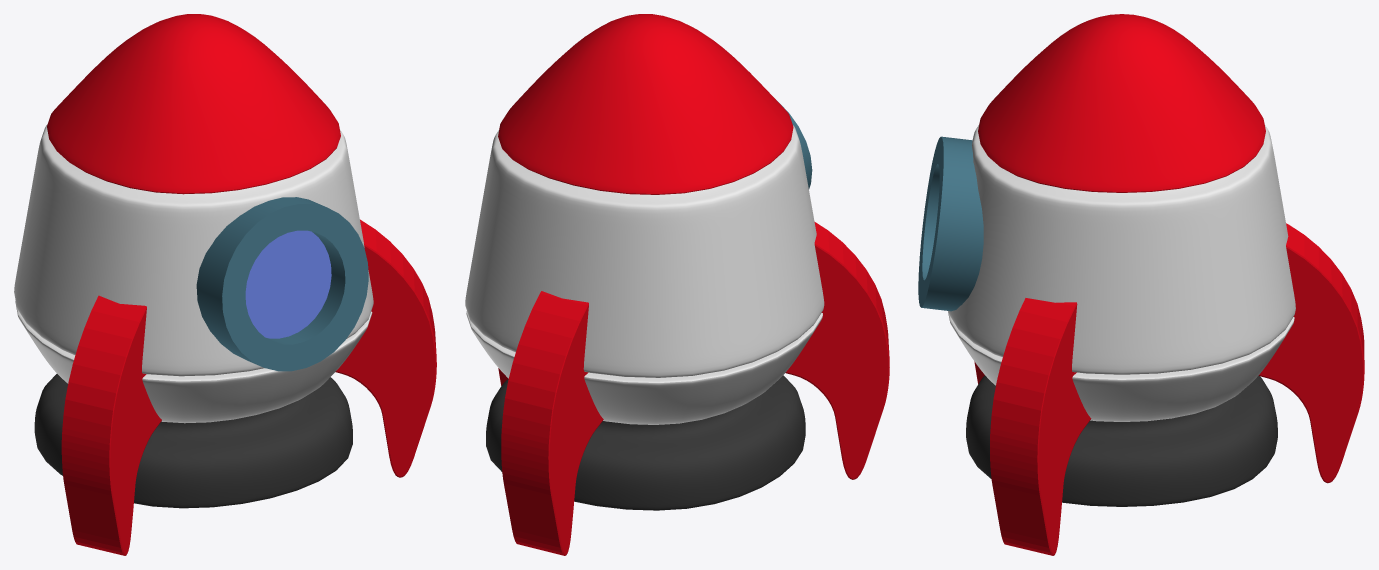
File: Rocket (wip).glb
The picture shows the model from 3 angles, left to right: view 1: azimuth 30°, elevation 25°; view 2: azimuth 150°, elevation 25°; view 3: azimuth 270°, elevation 25°; orthographic projection.
Parts seen in each view (by area): view 1: Cube, Cylinder, Cube.004, Cube.001; view 2: Cube, Cube.003, Cube.004; view 3: Cube, Cube.001, Cube.003, Cylinder.
Part boxes in pixels (box(x1,y1,x2,y2)): Cube: box(14, 14, 373, 508); Cylinder: box(196, 197, 368, 371); Cube.004: box(61, 295, 161, 555); Cube.001: box(335, 219, 436, 477); Cube: box(465, 14, 824, 510); Cube.003: box(501, 291, 603, 555); Cube.004: box(785, 222, 889, 479); Cube: box(948, 14, 1295, 506); Cube.001: box(990, 298, 1091, 555); Cube.003: box(1258, 223, 1364, 483); Cylinder: box(918, 136, 983, 311).
Bounding box in the file's own units: 3.01 × 3.36 × 3.01.
